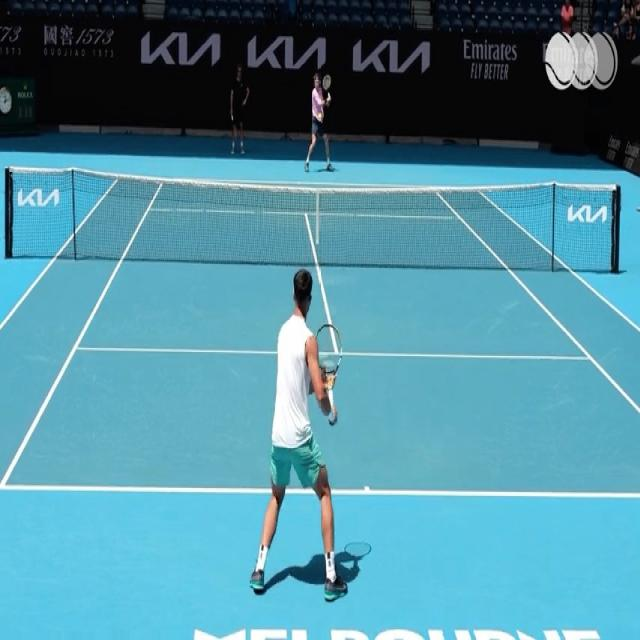ready-position: (252, 264, 361, 611)
